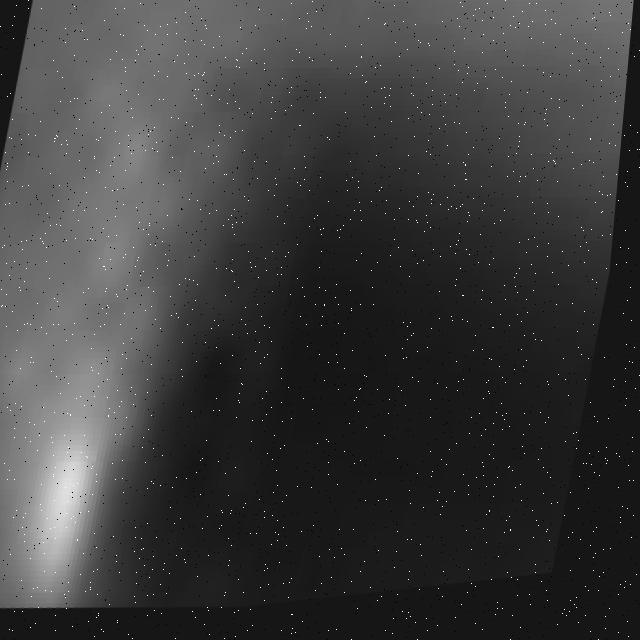person: (1, 1, 275, 631)
